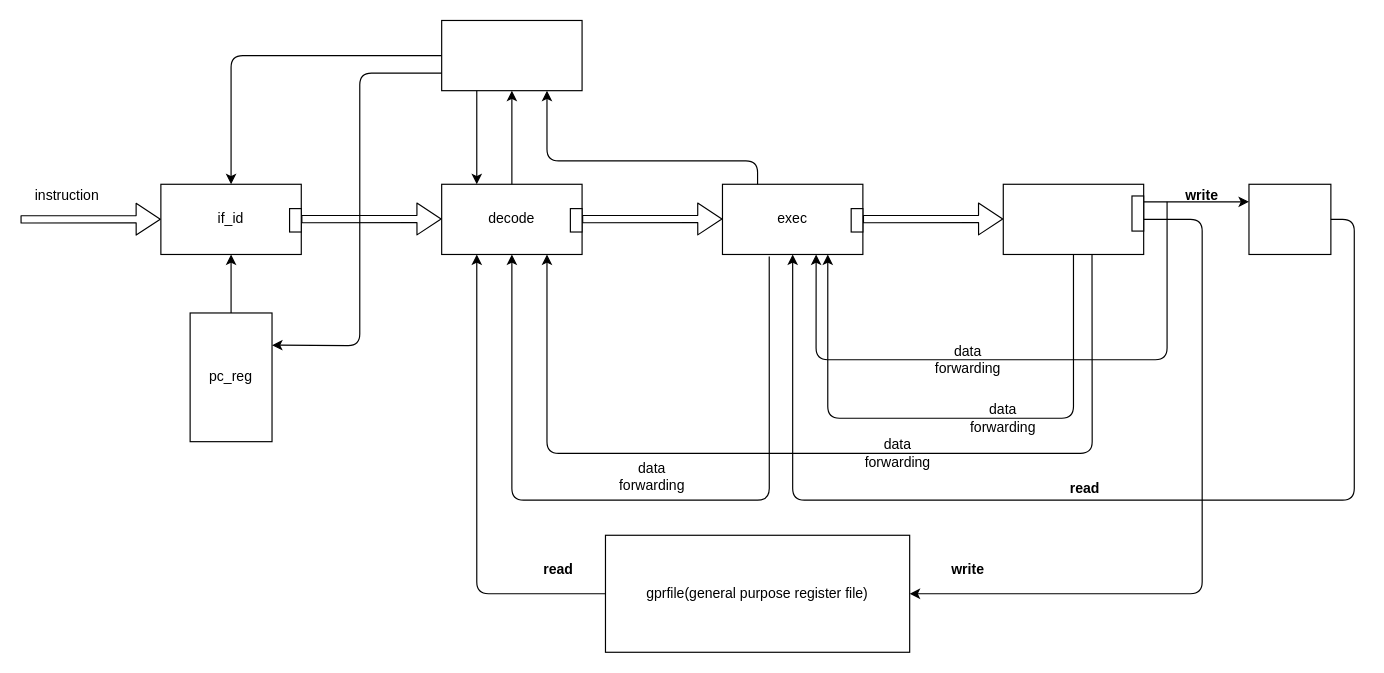
The diagram is 1384 pixels wide and 673 high, and some of its shapes have lost their labels. Each missing label, with the centre of its shape:
hilo_reg: (1289,218)
mem: (1073,218)
stall_ctrl: (511,55)
